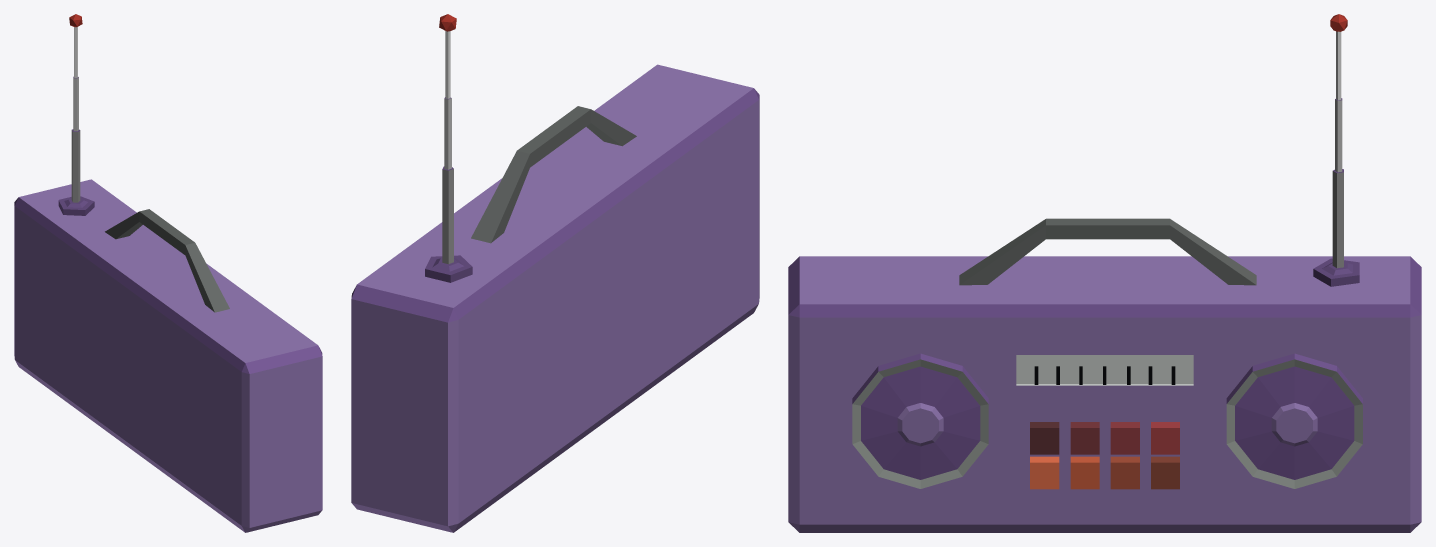
File: Boombox_01.glb
The picture shows the model from 3 angles, left to right: view 1: azimuth 30°, elevation 25°; view 2: azimuth 150°, elevation 25°; view 3: azimuth 270°, elevation 25°; orthographic projection. The views are drawn at different scales.
Parts seen in each view (by area): view 1: Boombox_01; view 2: Boombox_01; view 3: Boombox_01.
Part boxes in pixels (x1,y1,x2,y2): Boombox_01: (14,14,322,532); Boombox_01: (351,14,759,532); Boombox_01: (788,14,1421,532).
Size of what is drawn, in the model's own units: 0.2613 by 0.9916 by 1.16.
1 material, 1 textured.
